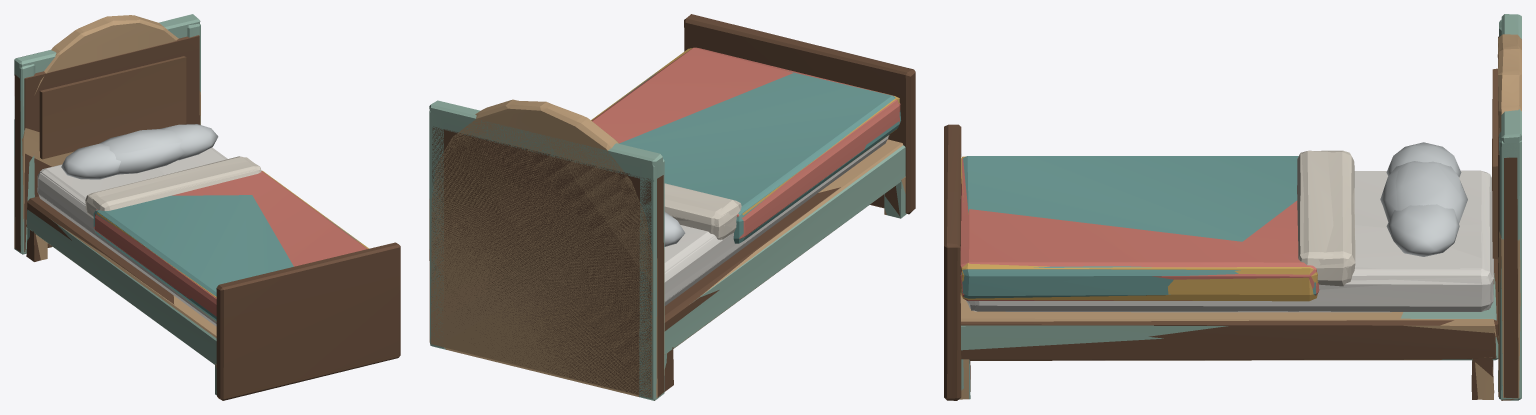
File: bed.glb
The picture shows the model from 3 angles, left to right: view 1: azimuth 30°, elevation 25°; view 2: azimuth 150°, elevation 25°; view 3: azimuth 270°, elevation 25°; orthographic projection. The views are drawn at different scales.
Parts seen in each view (by area): view 1: bed.v2.mesh, bed.v1.mesh, bed.v0.mesh; view 2: bed.v0.mesh, bed.v2.mesh, bed.v1.mesh; view 3: bed.v1.mesh, bed.v2.mesh, bed.v0.mesh.
Part boxes in pixels (x1=…): bed.v2.mesh: x1=14, y1=35, x2=400, y2=400; bed.v1.mesh: x1=14, y1=14, x2=360, y2=395; bed.v0.mesh: x1=14, y1=15, x2=367, y2=368; bed.v0.mesh: x1=429, y1=47, x2=905, y2=400; bed.v2.mesh: x1=431, y1=14, x2=915, y2=397; bed.v1.mesh: x1=429, y1=71, x2=906, y2=400; bed.v1.mesh: x1=961, y1=14, x2=1521, y2=400; bed.v2.mesh: x1=944, y1=36, x2=1518, y2=400; bed.v0.mesh: x1=959, y1=34, x2=1521, y2=400.
Size of the model in its own units: 1 by 1.12 by 2.
